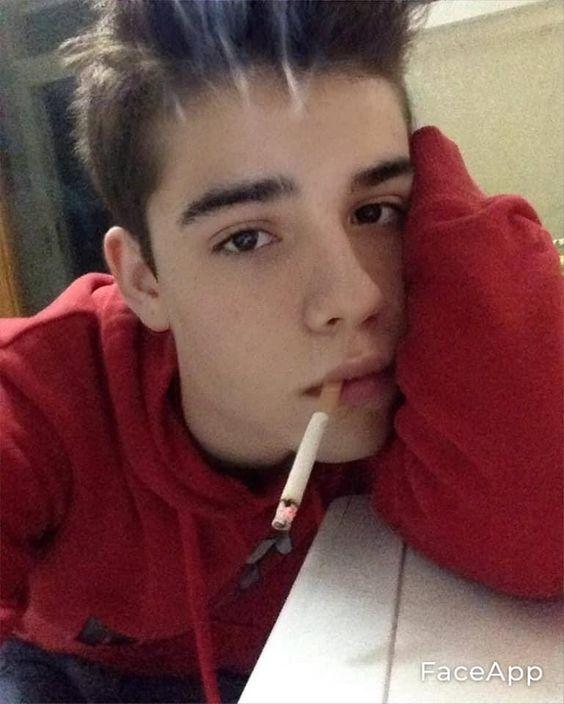cigarette: (272, 380, 342, 531)
